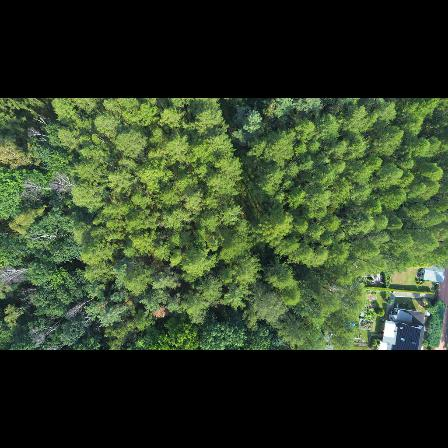Dead: (24, 319, 60, 348), (31, 227, 66, 248), (0, 262, 32, 284), (66, 295, 94, 318), (19, 178, 46, 200), (51, 171, 76, 192), (25, 127, 51, 140)
